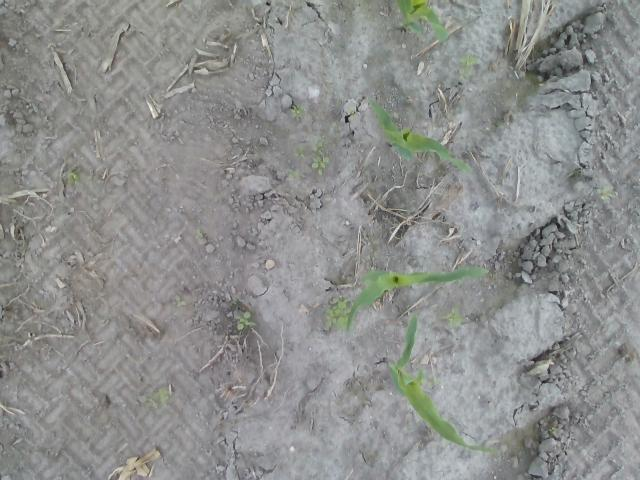Maize: (384, 317, 496, 453), (366, 97, 476, 175), (348, 264, 489, 323), (394, 0, 451, 42)
Weeds: (326, 301, 350, 329), (456, 54, 480, 82), (312, 142, 329, 176), (234, 312, 258, 332), (443, 306, 464, 328), (144, 385, 168, 403), (290, 103, 305, 118), (596, 185, 611, 200), (65, 172, 79, 186), (172, 294, 186, 307), (288, 168, 304, 178), (193, 228, 206, 240), (294, 146, 304, 158), (547, 425, 557, 434)
